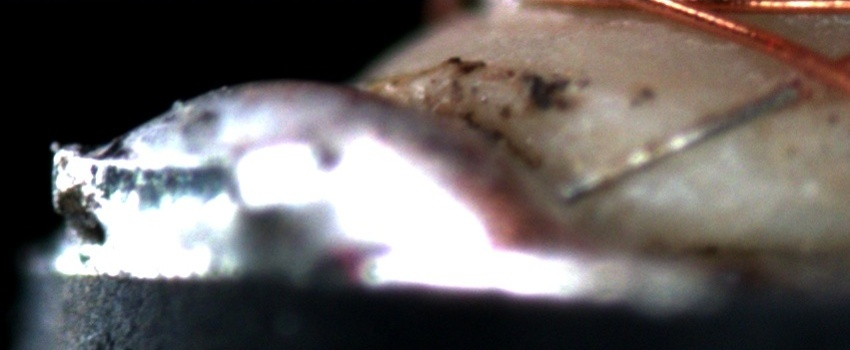TS: (562, 84, 798, 202)
